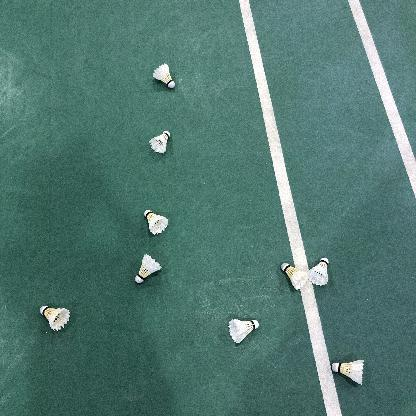ball_single: (332, 360, 364, 385), (135, 254, 162, 283), (281, 263, 310, 290), (40, 306, 70, 331), (228, 319, 259, 343), (144, 210, 169, 235), (308, 258, 329, 286), (152, 63, 175, 88), (149, 131, 170, 153)
